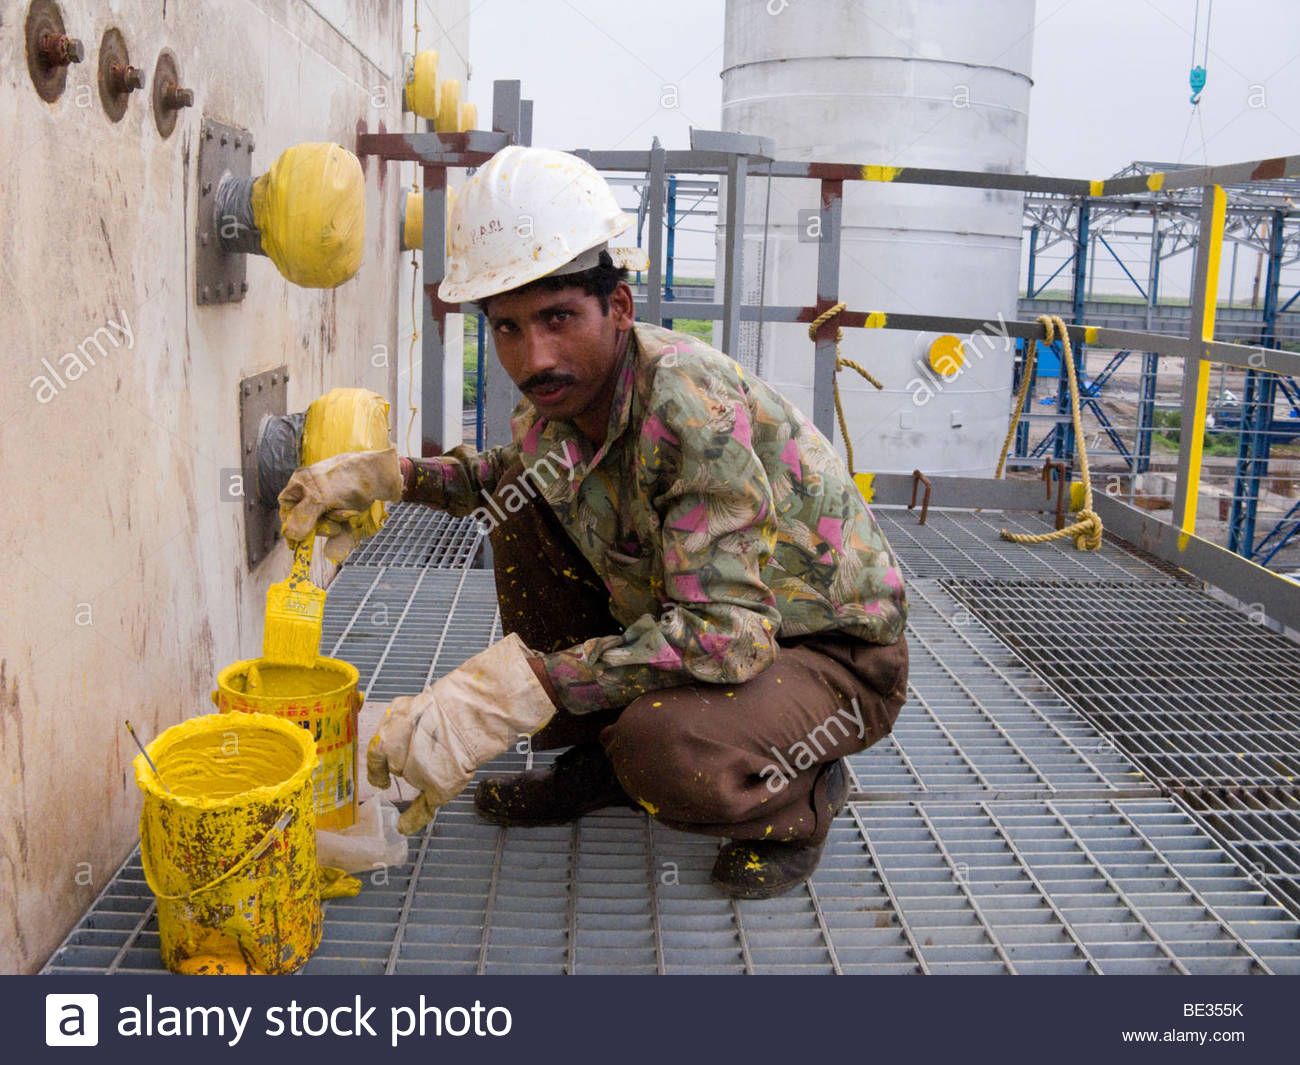NoJacket: (435, 144, 793, 672)
